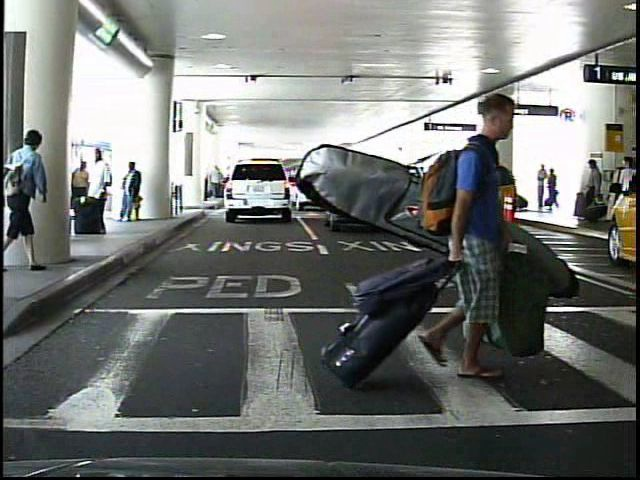person: (412, 79, 523, 385), (4, 132, 56, 275), (86, 146, 112, 238), (118, 160, 143, 226), (69, 158, 91, 232), (579, 158, 602, 225), (533, 163, 548, 211), (545, 169, 556, 213)
